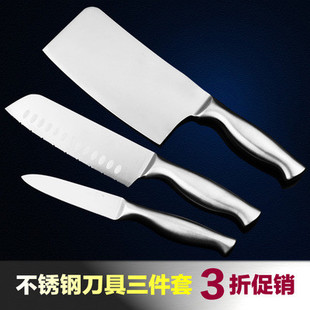knief: (40, 11, 306, 180)
